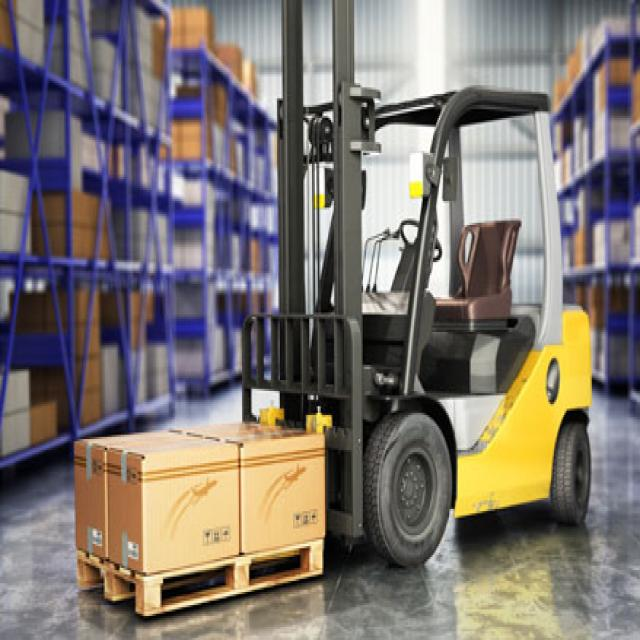Chariot elevateur: (261, 26, 611, 575)
